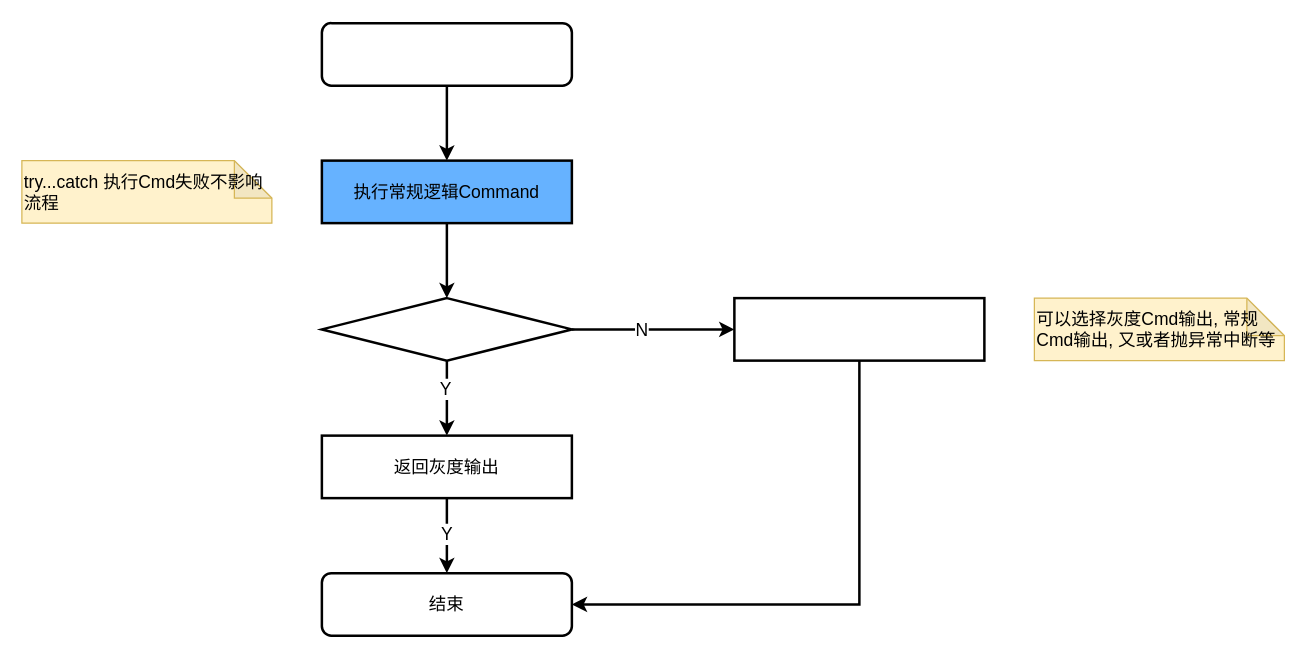
The diagram is 1306 pixels wide and 658 high, and some of its shapes have lost their labels. Each missing label, with the centre of its shape:
两边输出异常或返回 均一致?: the point at 446,328
开始: the point at 446,53
执行AdoptOnDiff策略决定输出: the point at 858,328
